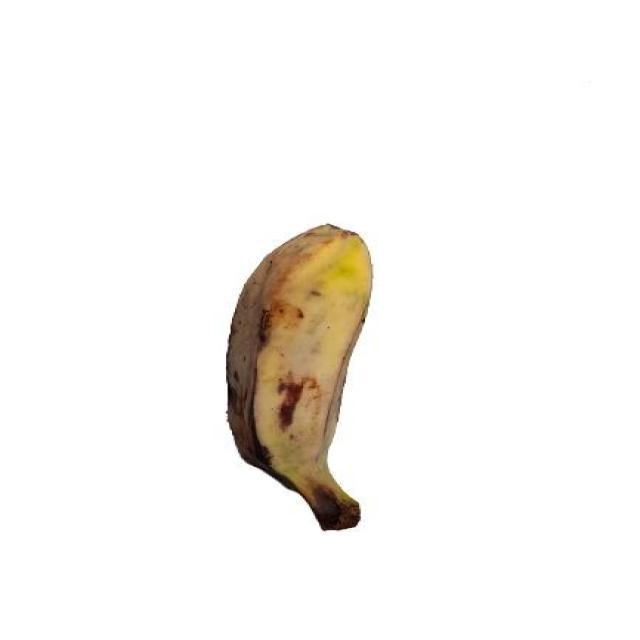Banana: (221, 212, 382, 541)
